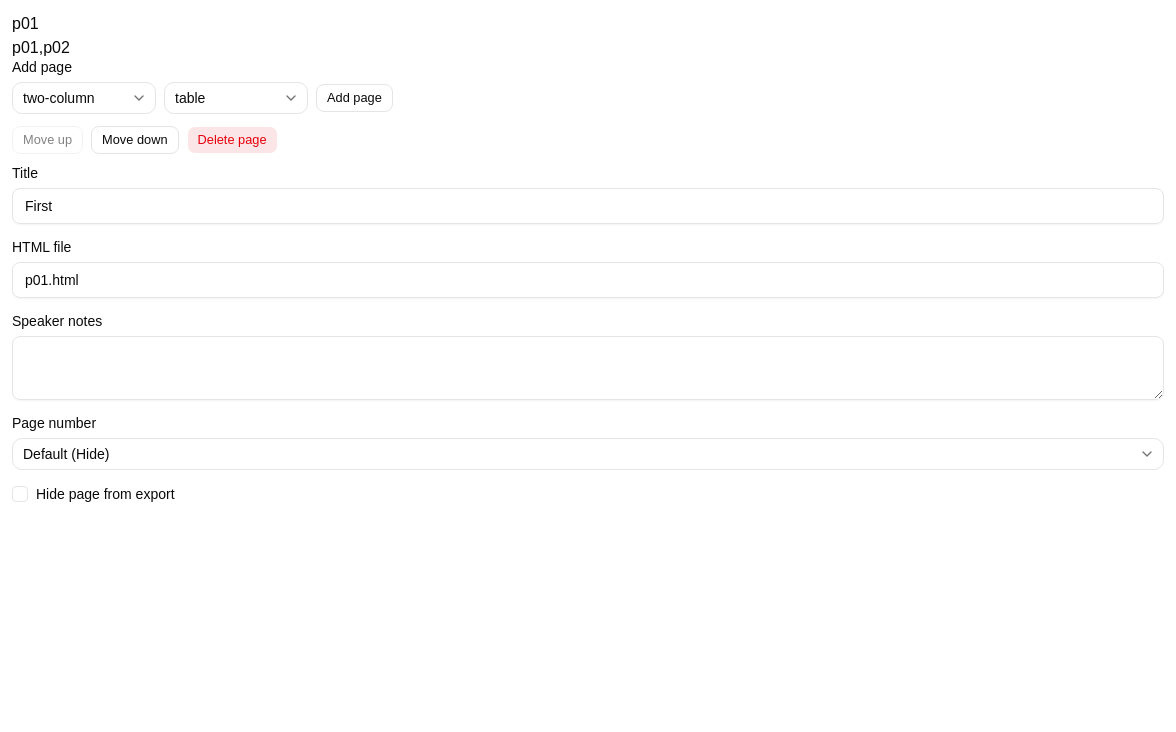
it: workshop page lifecycle › moves the selected page while keeping the same page id selected
The width and height of the screenshot is (1176, 732).
Click the button "Move down" at (135, 140), box x1=91 y1=126 x2=179 y2=154
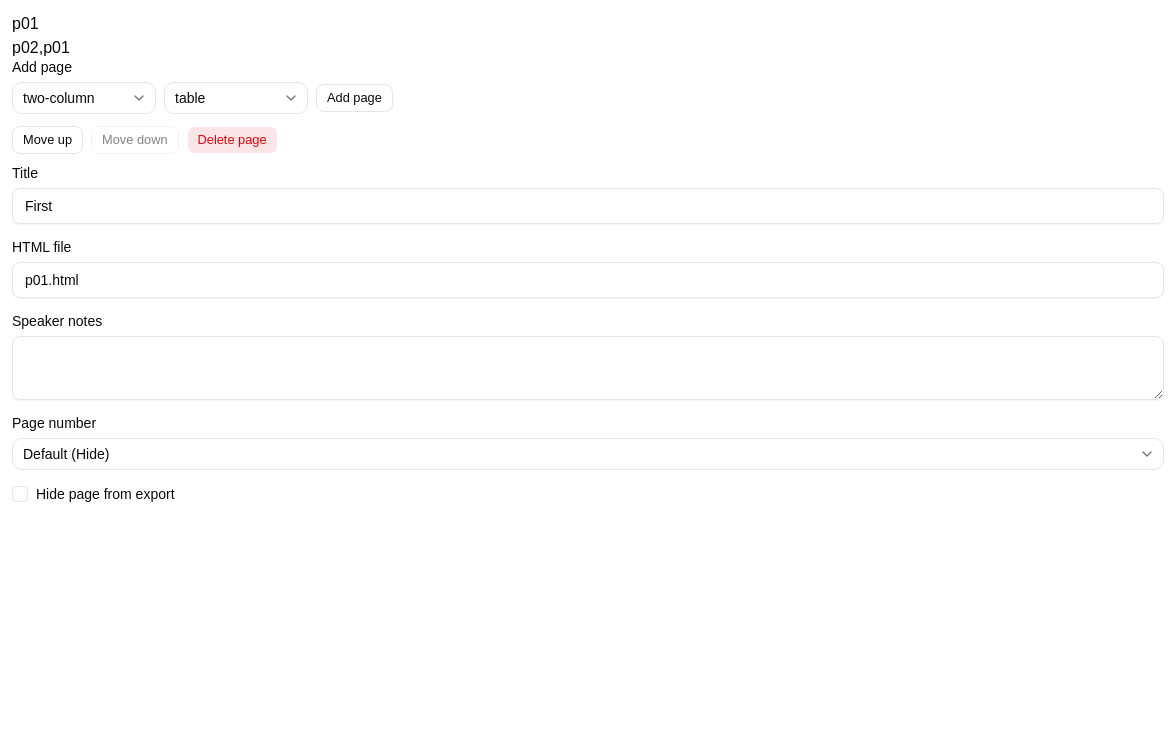
Check: the text with test id "selected-page" reads "p01", box x1=12 y1=15 x2=39 y2=32
Check: the text with test id "page-ids" reads "p02,p01", box x1=12 y1=39 x2=70 y2=56
